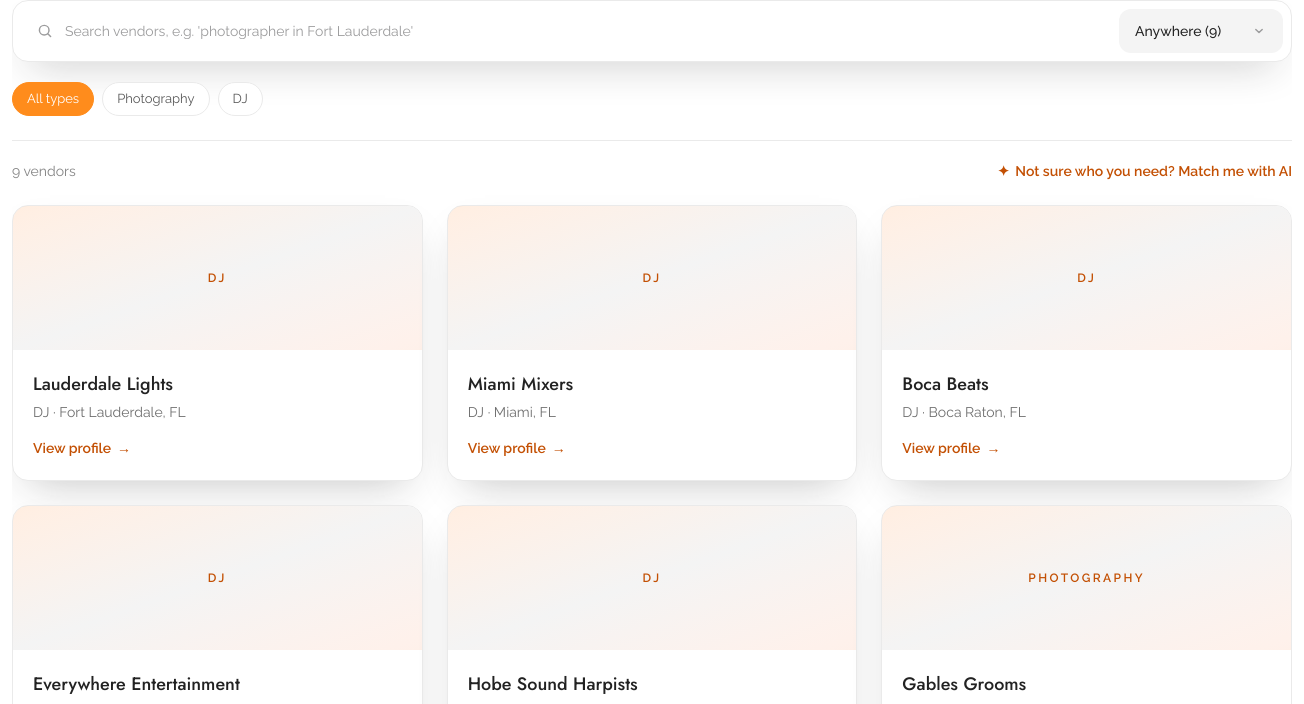
VendorDirectoryList metro and area filters › returns to the full list when the metro is cleared
Select "South Florida (6)" in the dropdown named "Metro". click: (1201, 31)
box: [1119, 9, 1283, 53]
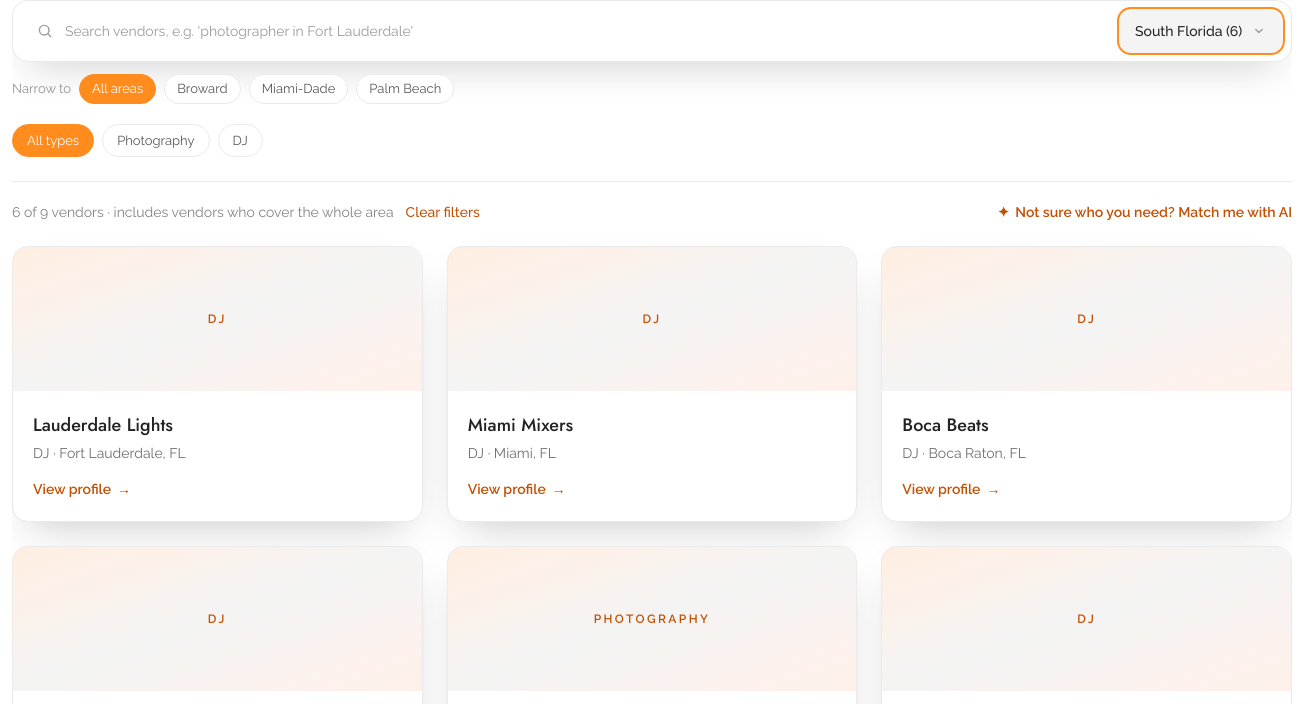
Select "Anywhere (9)" in the dropdown named "Metro". click: (1201, 31)
box: [1119, 9, 1283, 53]
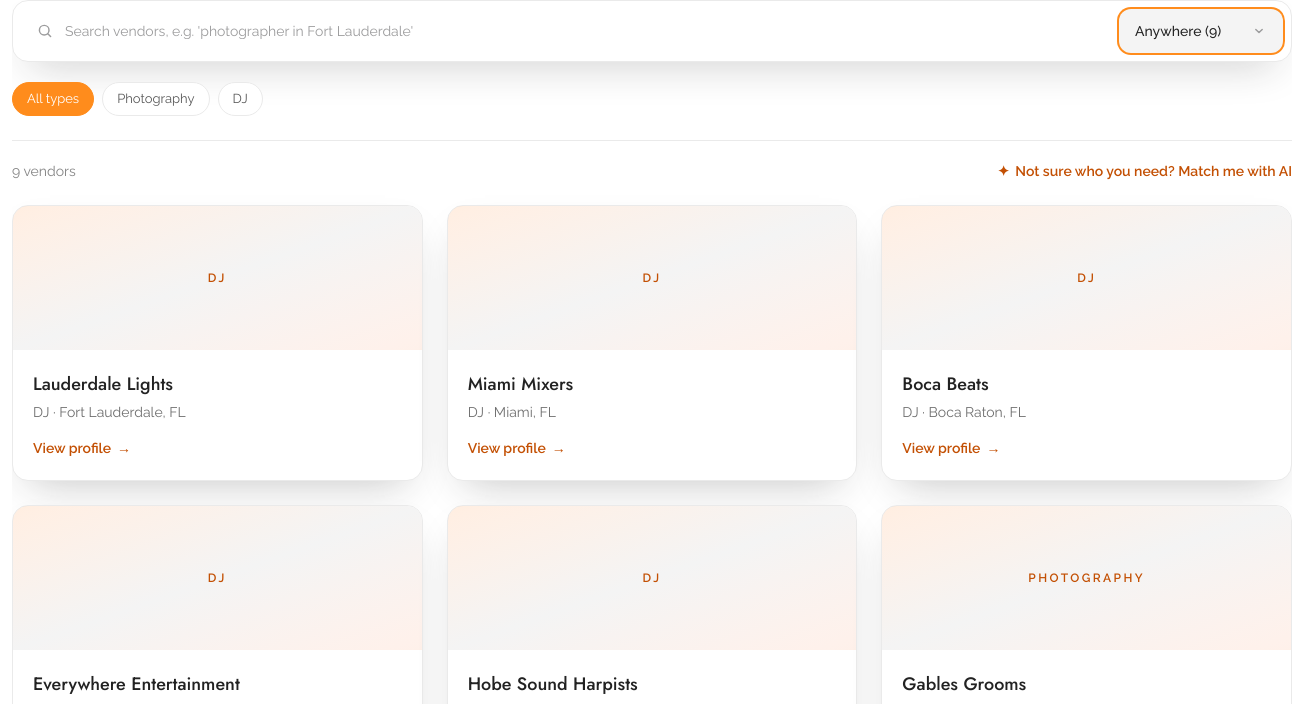
Now the number of headings is 9
